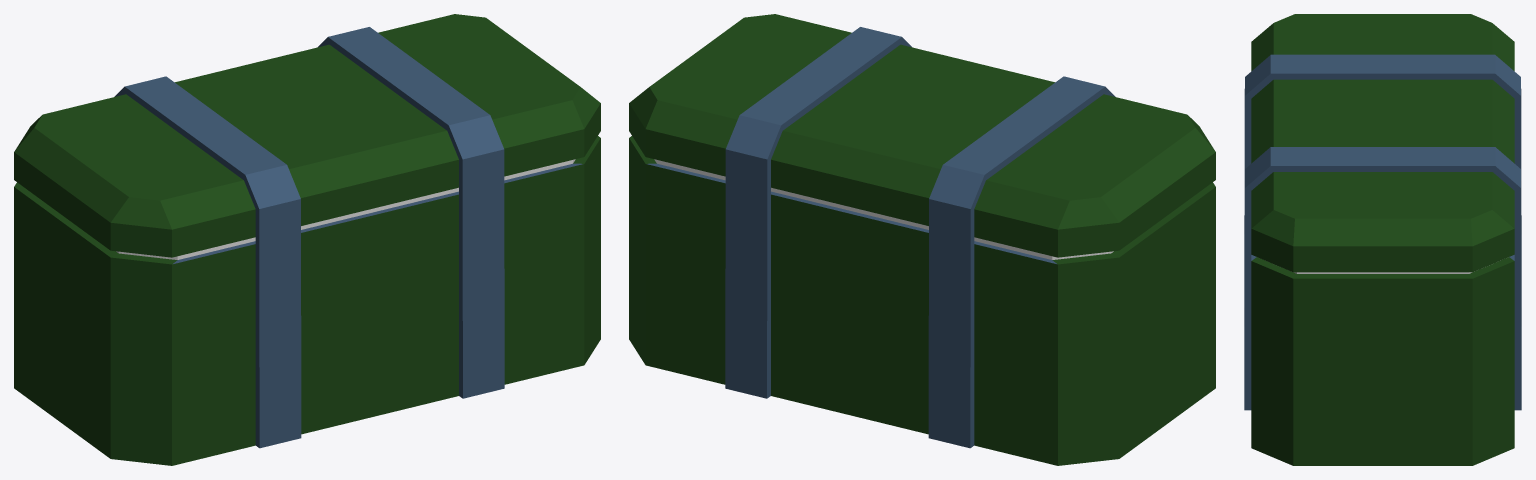
Rendered from Supply_Crate.001.fbx.
The picture shows the model from 3 angles, left to right: view 1: azimuth 30°, elevation 25°; view 2: azimuth 150°, elevation 25°; view 3: azimuth 270°, elevation 25°; orthographic projection. The views are drawn at different scales.
Visible parts, largest first — view 1: Supply_Crate; view 2: Supply_Crate; view 3: Supply_Crate.
Boxes of the visible parts, box(x1,y1,x2,y2) form: Supply_Crate: box(14, 14, 600, 465); Supply_Crate: box(629, 14, 1215, 465); Supply_Crate: box(1244, 14, 1521, 465).
Bounding box in the file's own units: 400 × 205 × 211.
